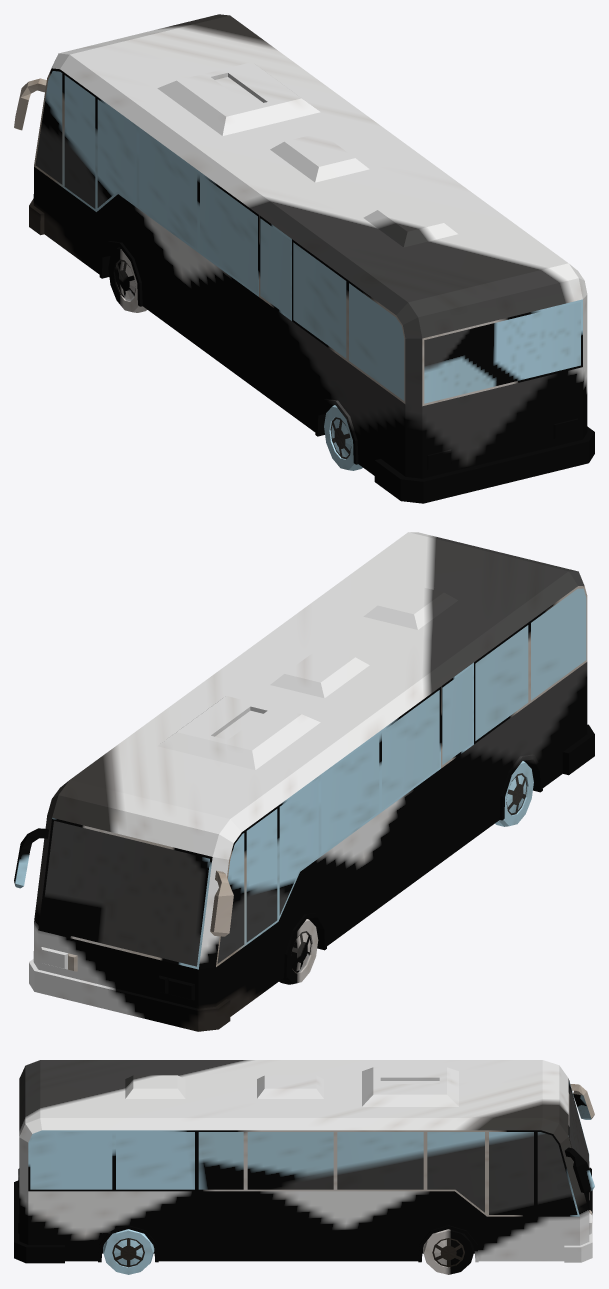
The model's file is citypack-bus-L3.glb.
The picture shows the model from 3 angles, top to bottom: view 1: azimuth 30°, elevation 25°; view 2: azimuth 150°, elevation 25°; view 3: azimuth 270°, elevation 25°; orthographic projection. The views are drawn at different scales.
Visible parts, largest first — view 1: body; view 2: body; view 3: body.
Boxes of the visible parts, x1,y1,x2,y2 form: body: [14, 14, 594, 503]; body: [14, 532, 594, 1031]; body: [14, 1060, 594, 1274].
Size of the model in its own units: 50.06 by 48.81 by 157.
Materials: 1 (1 with a texture image).
